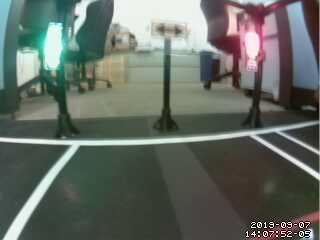Left_Right_sign: (150, 21, 192, 41)
Traffic_light_green: (44, 22, 60, 66)
Traffic_light_red: (248, 31, 260, 67)
